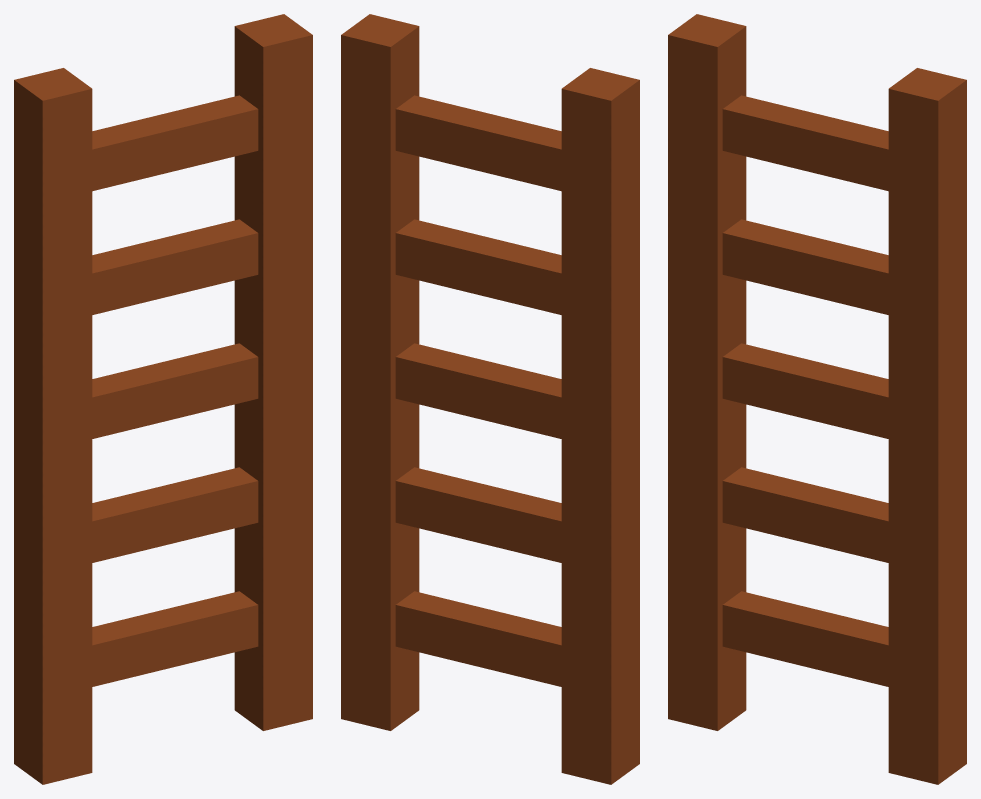
Rendered from Ladder_decoration.fbx.
The picture shows the model from 3 angles, left to right: view 1: azimuth 30°, elevation 25°; view 2: azimuth 150°, elevation 25°; view 3: azimuth 330°, elevation 25°; orthographic projection.
Parts seen in each view (by area): view 1: Ladder_decoration; view 2: Ladder_decoration; view 3: Ladder_decoration.
Part boxes in pixels (x1,y1,x2,y2): Ladder_decoration: (14,14,312,784); Ladder_decoration: (341,14,639,784); Ladder_decoration: (668,14,966,784).
Size of the model in its own units: 207 by 501 by 38.04.
